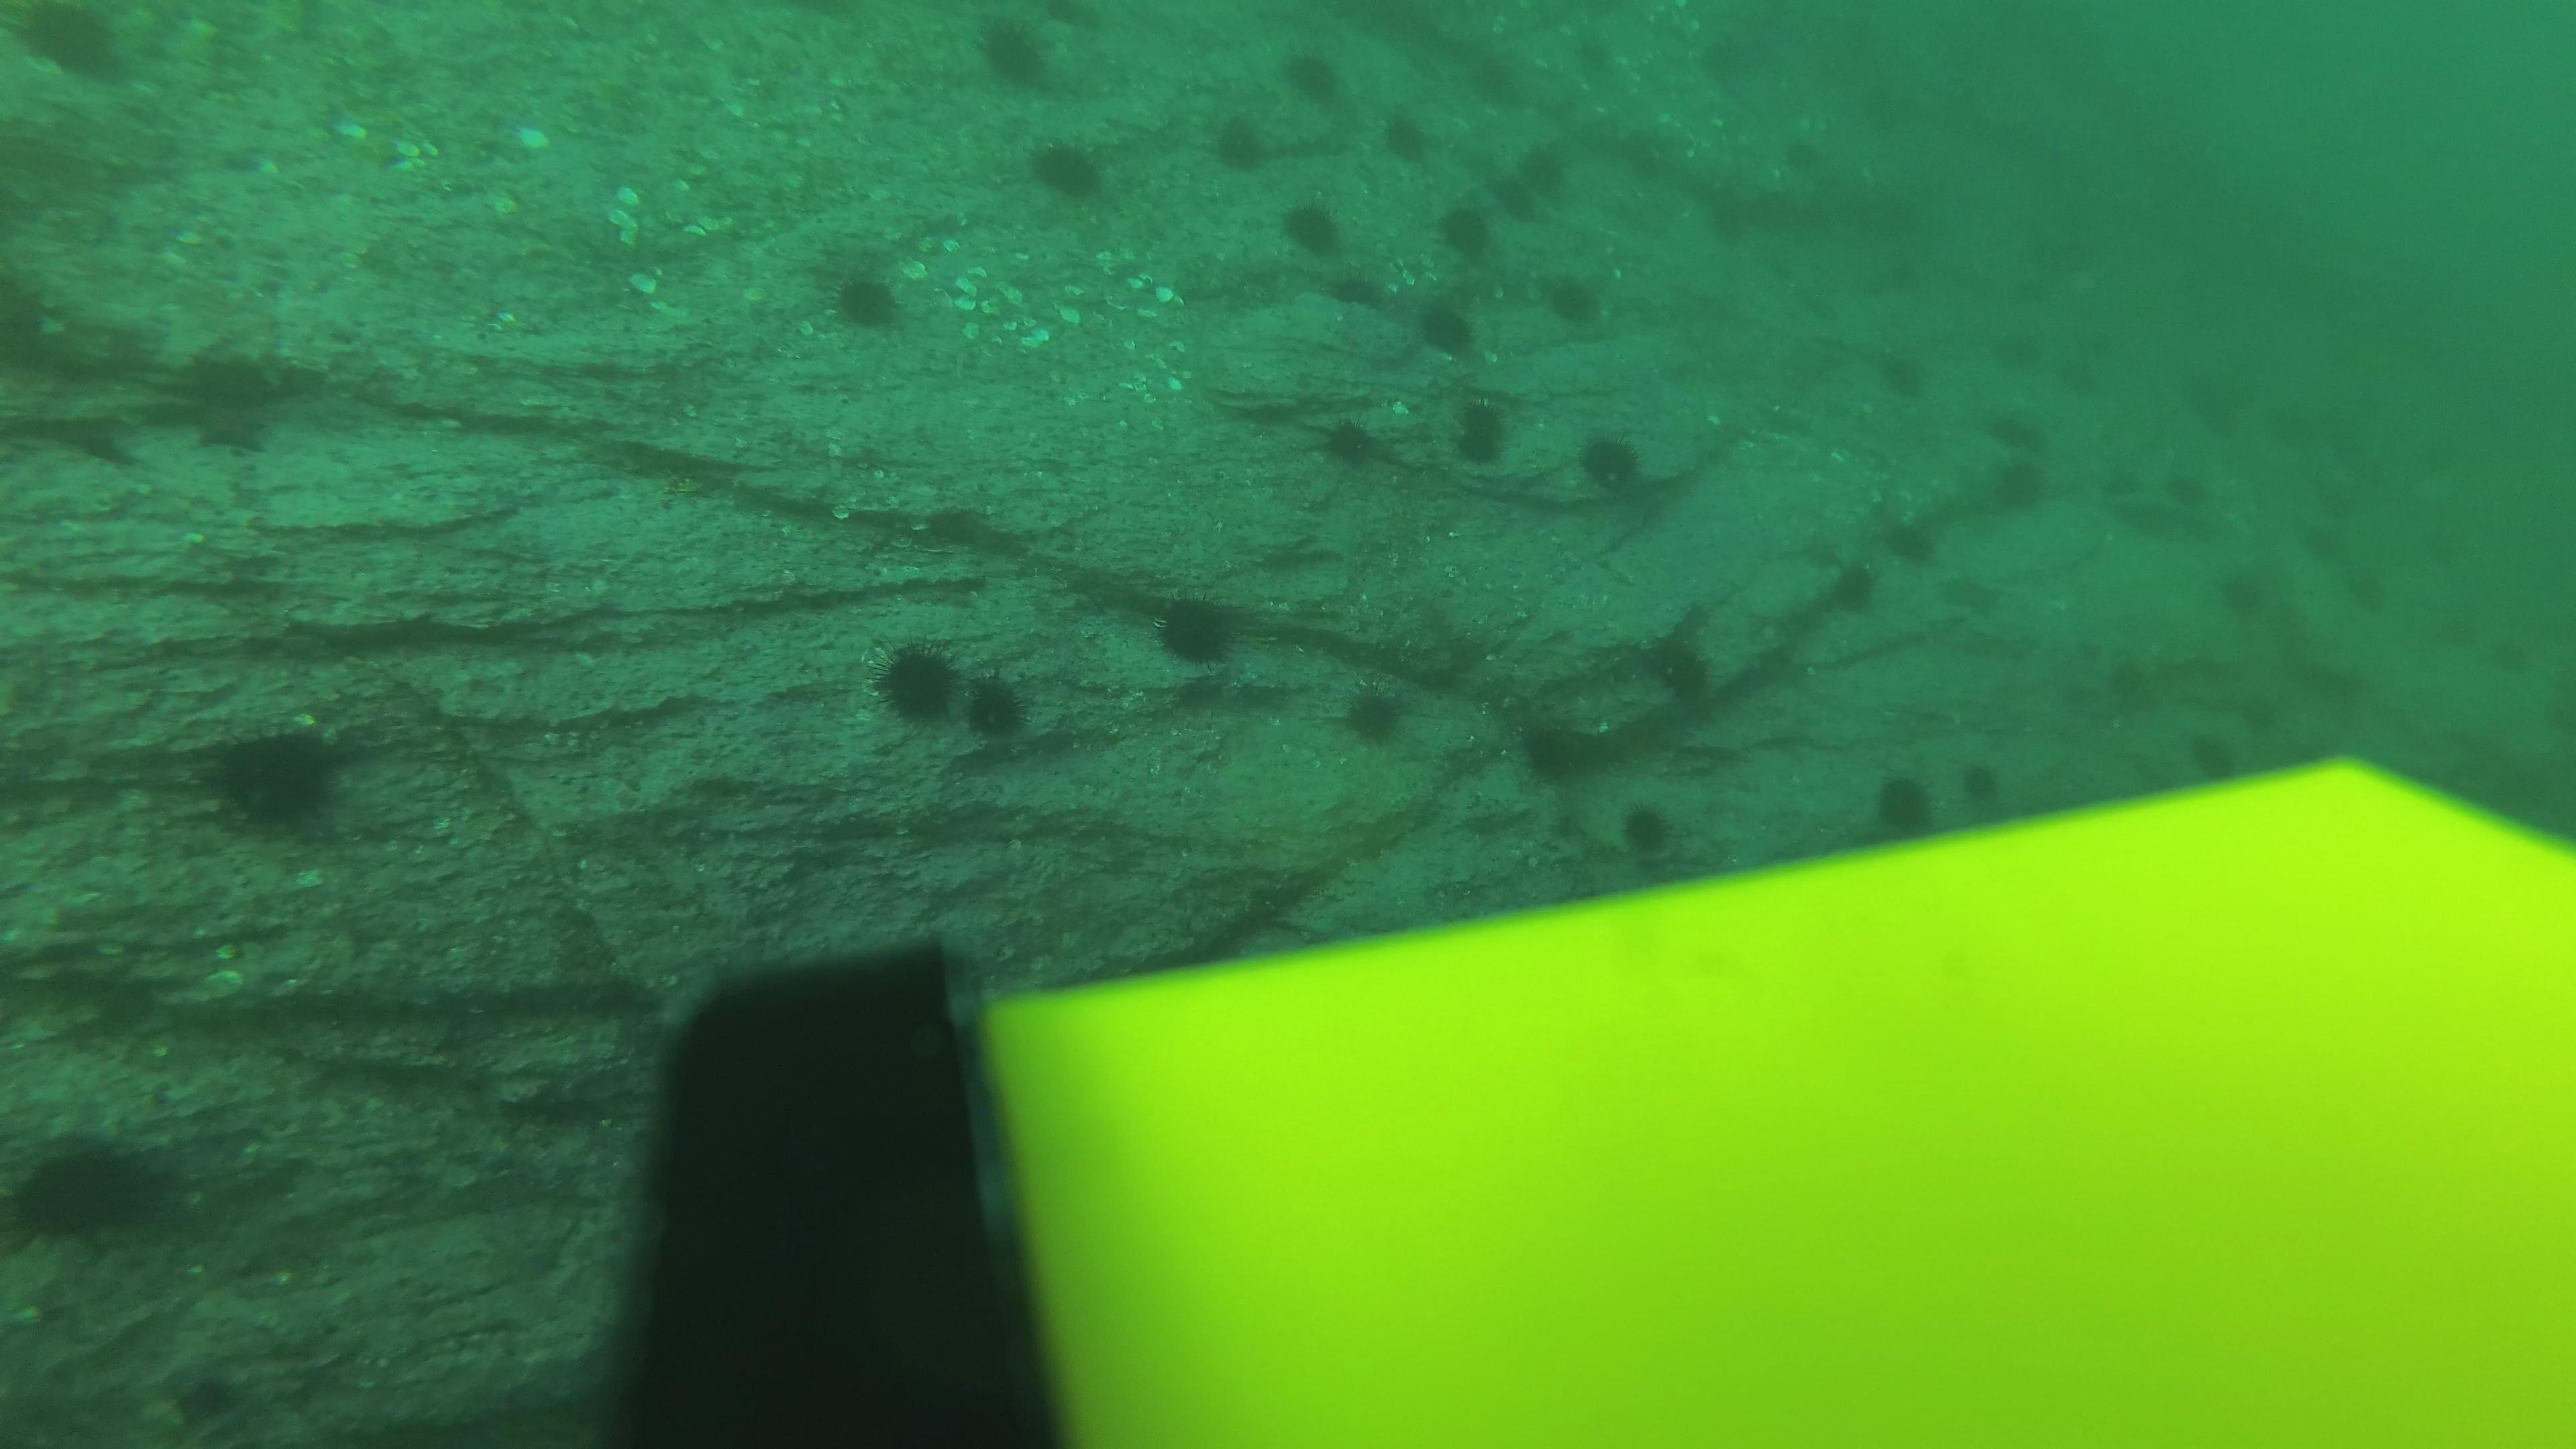echinus: (5, 1127, 172, 1253), (200, 717, 350, 839), (9, 0, 136, 88), (1143, 586, 1251, 674), (938, 663, 1039, 754), (816, 253, 913, 340), (878, 635, 966, 724), (970, 12, 1063, 94), (1638, 625, 1723, 713), (1023, 131, 1115, 209), (1330, 674, 1419, 752), (1511, 709, 1598, 787), (1863, 764, 1946, 844), (1571, 425, 1654, 502), (180, 395, 280, 458), (1445, 395, 1516, 471), (1610, 796, 1686, 867), (1277, 42, 1350, 111), (1311, 410, 1387, 476), (1539, 267, 1610, 334), (1277, 193, 1346, 260), (1412, 294, 1481, 361), (1205, 108, 1272, 175), (1433, 195, 1499, 264), (1322, 265, 1387, 333), (1822, 556, 1886, 619), (1879, 508, 1941, 570), (1376, 104, 1435, 166), (2189, 729, 2238, 789), (2107, 655, 2157, 715), (2213, 568, 2263, 628), (2337, 566, 2387, 626), (1957, 761, 2006, 819), (2242, 686, 2291, 745), (2319, 660, 2369, 718), (1990, 414, 2045, 465), (1877, 354, 1932, 405), (1989, 324, 2043, 375), (2049, 349, 2104, 400), (2259, 405, 2314, 456), (2491, 632, 2546, 683), (2438, 616, 2493, 667), (1766, 126, 1821, 177), (1704, 189, 1759, 241), (1522, 138, 1576, 189), (1996, 255, 2051, 306), (1453, 50, 1507, 101), (1695, 39, 1750, 90), (2196, 386, 2249, 437), (2307, 410, 2360, 462), (1488, 173, 1541, 225), (1571, 30, 1624, 81), (1994, 458, 2049, 508), (2424, 525, 2477, 575), (2291, 534, 2339, 575), (2307, 488, 2355, 527), (2166, 467, 2212, 506)
starfish: (180, 395, 280, 458)
